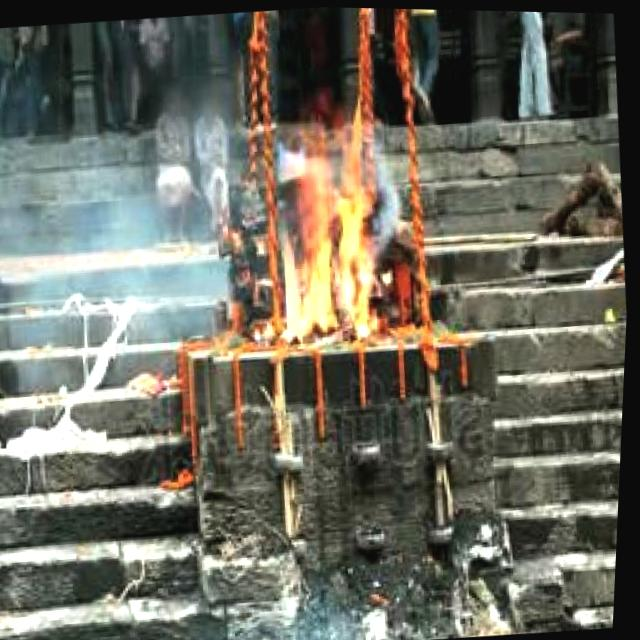helmet: (265, 130, 391, 348)
